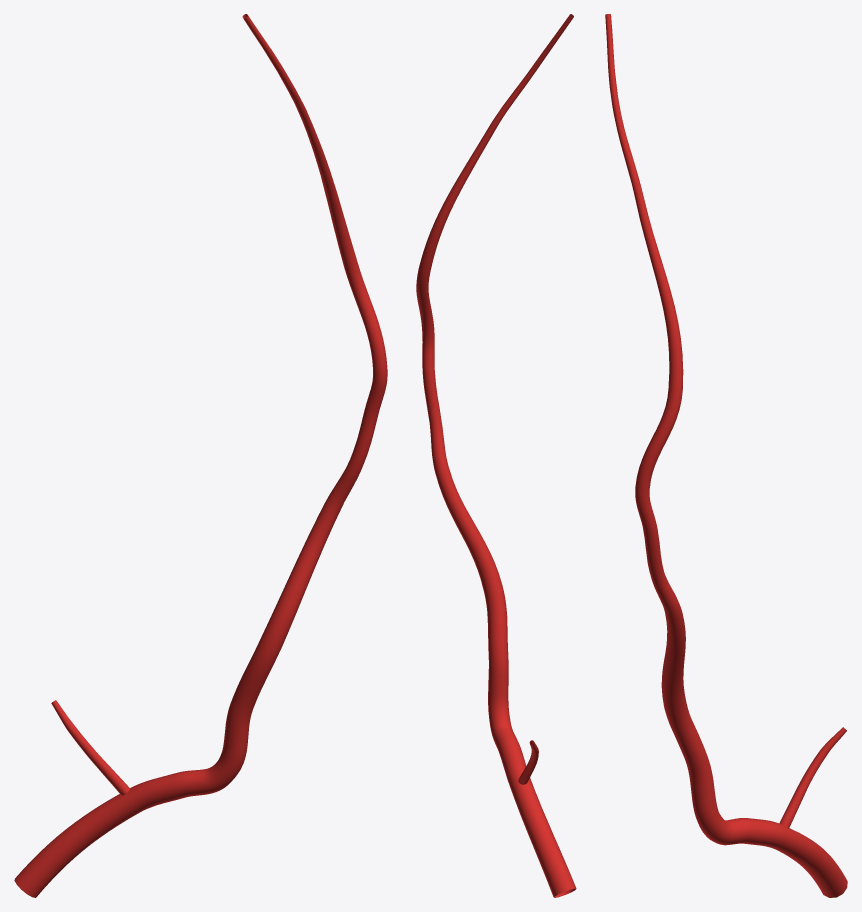
File: circulatorio-angular-vein-r.glb
3 views of the same model, side by side, from view 1: azimuth 30°, elevation 25°; view 2: azimuth 150°, elevation 25°; view 3: azimuth 270°, elevation 25° (orthographic). The views are drawn at different scales.
Visible parts, largest first — view 1: Angular vein.r; view 2: Angular vein.r; view 3: Angular vein.r.
Boxes of the visible parts, box(x1,y1,x2,y2) form: Angular vein.r: box(14, 14, 387, 897); Angular vein.r: box(416, 14, 576, 897); Angular vein.r: box(605, 14, 847, 897).
Bounding box in the file's own units: 0.0218 × 0.0713 × 0.0168.
